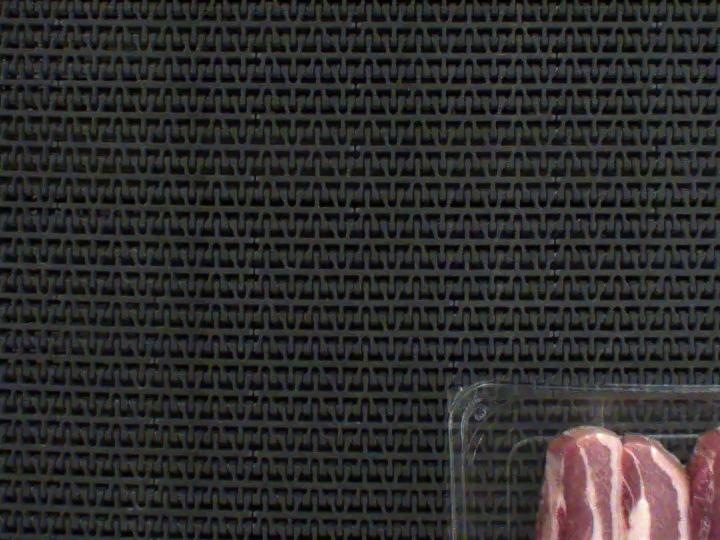packaging-error: (583, 396, 618, 432)
